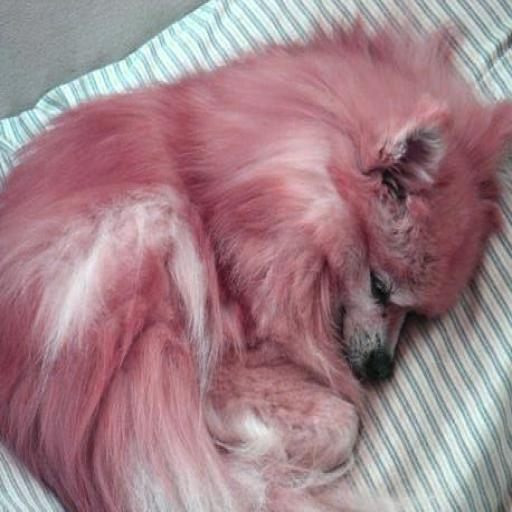dog_face: (318, 100, 492, 392)
